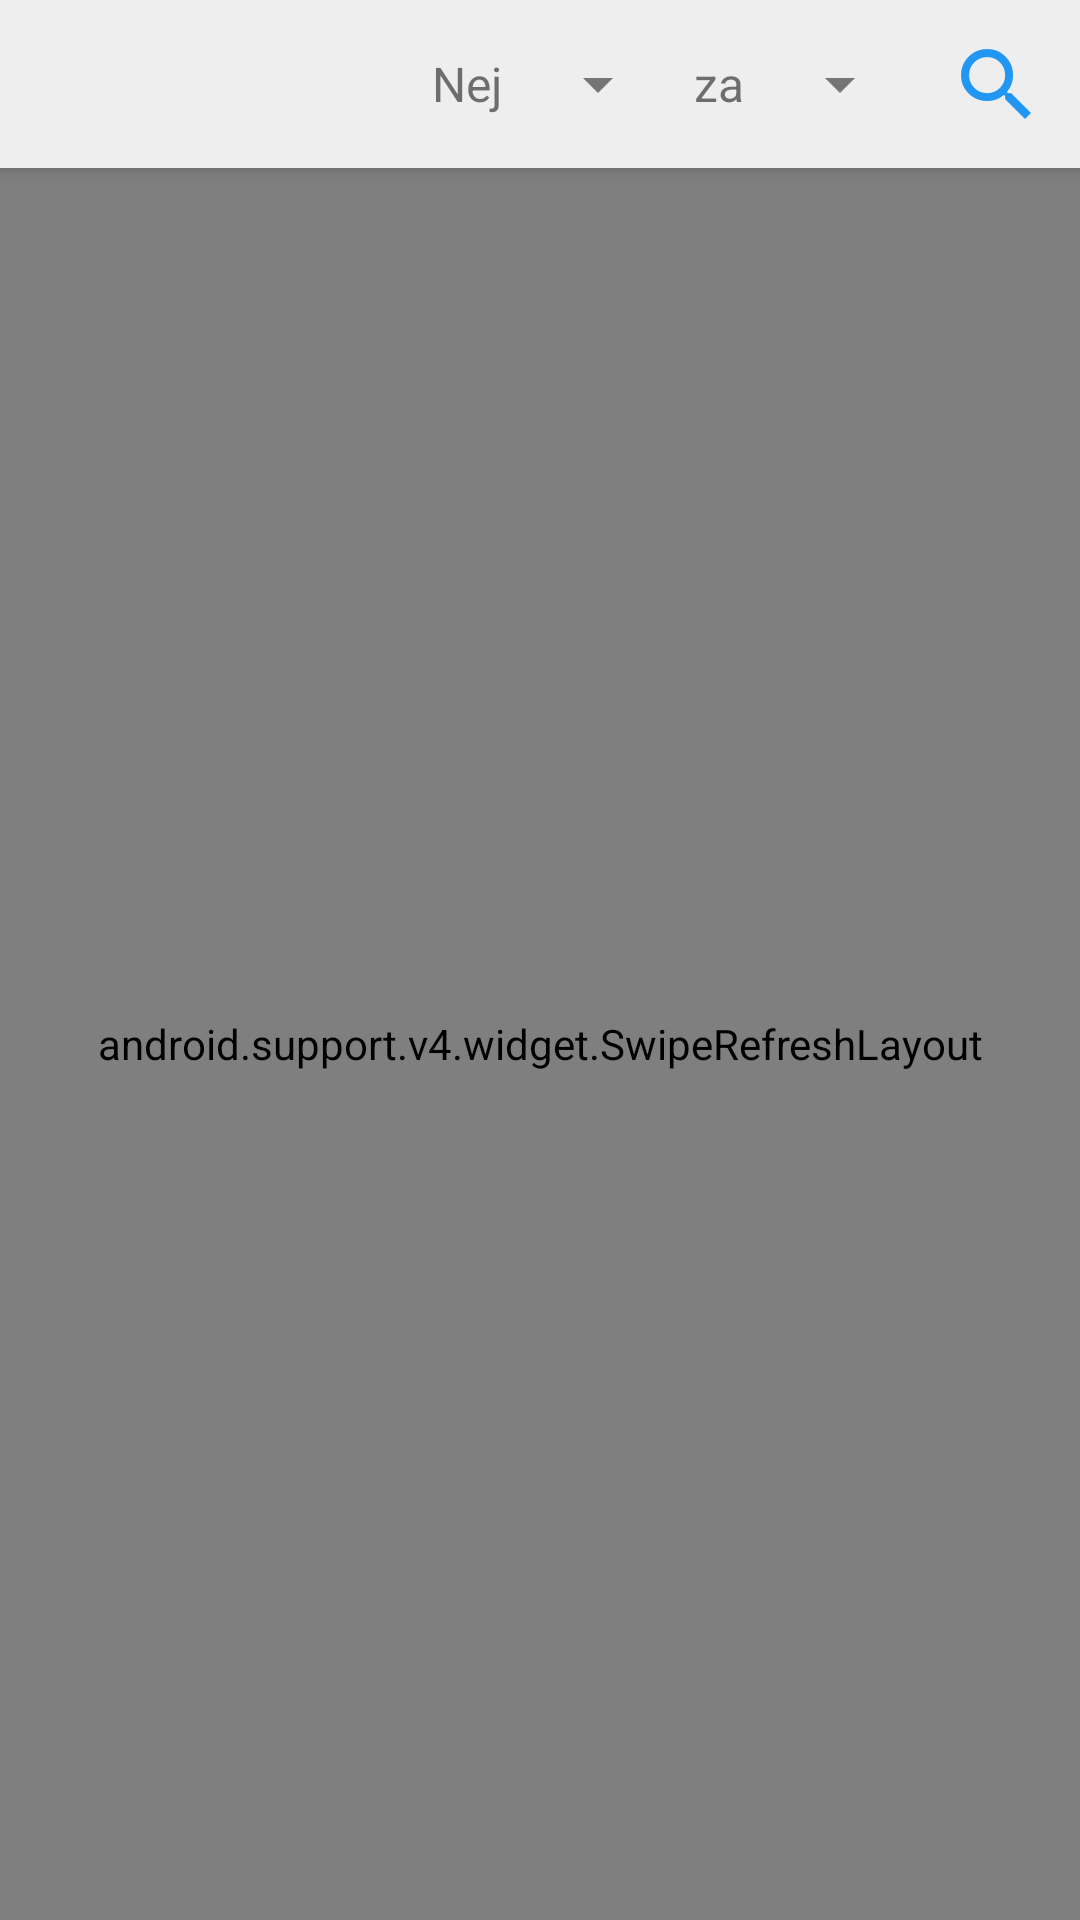

Icons on this 1080px×1920px Android screen, each with the point to tap as (x=x, y=y):
bar search: (x=996, y=84)
